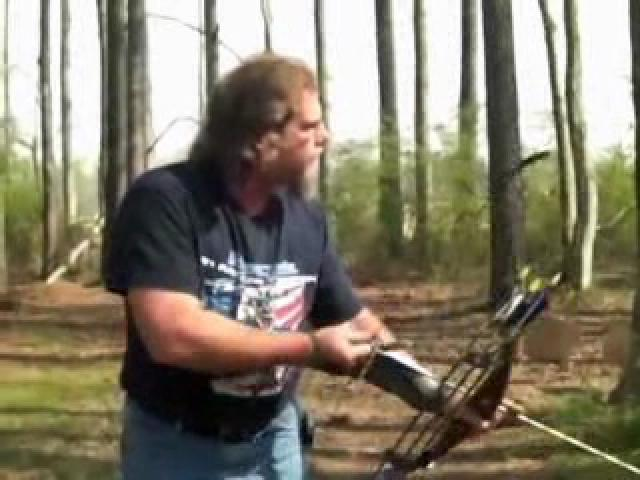I: (77, 48, 534, 466)
